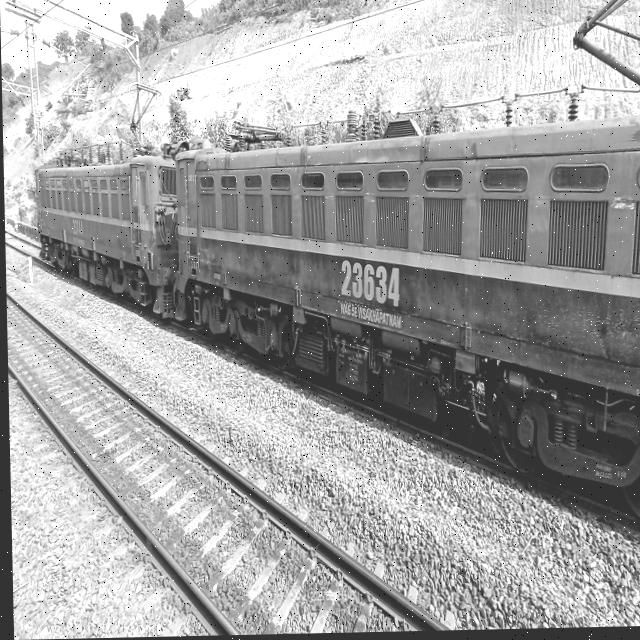train: (26, 93, 640, 540)
